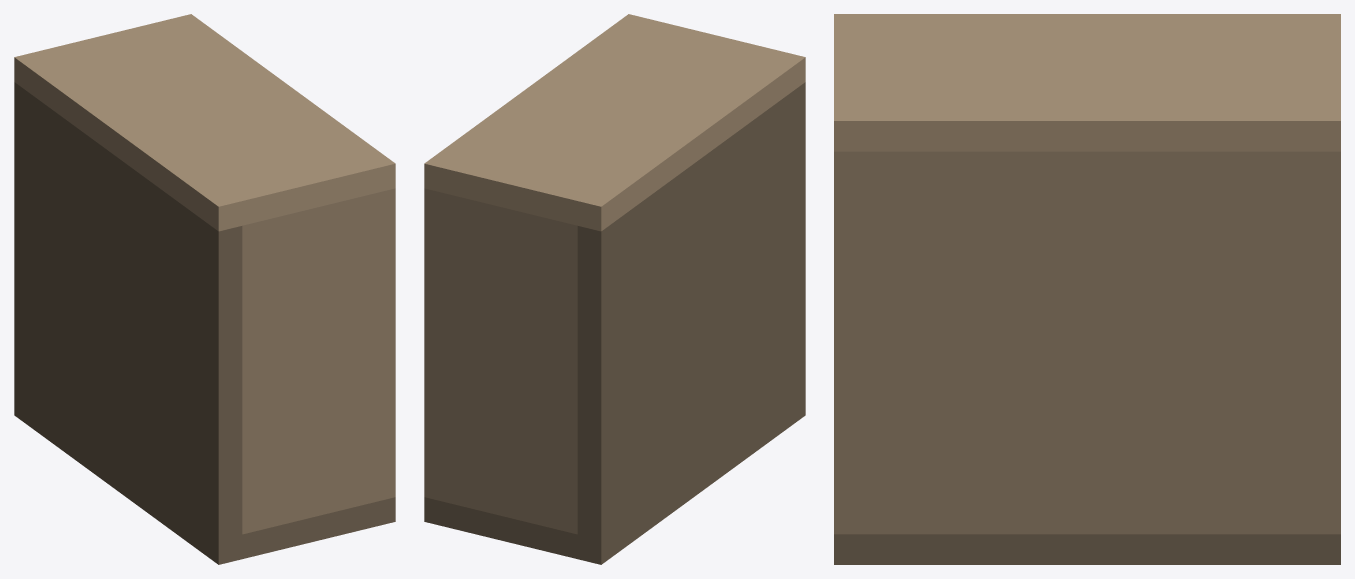
The model's file is estanteria_01.glb.
3 views of the same model, side by side, from view 1: azimuth 30°, elevation 25°; view 2: azimuth 150°, elevation 25°; view 3: azimuth 270°, elevation 25° (orthographic). The views are drawn at different scales.
Visible parts, largest first — view 1: estanteria; view 2: estanteria; view 3: estanteria.
Part boxes in pixels (x1,y1,x2,y2): estanteria: (14, 14, 395, 564); estanteria: (424, 14, 805, 564); estanteria: (834, 14, 1340, 564).
Size of the model in its own units: 1 by 1.93 by 2.
